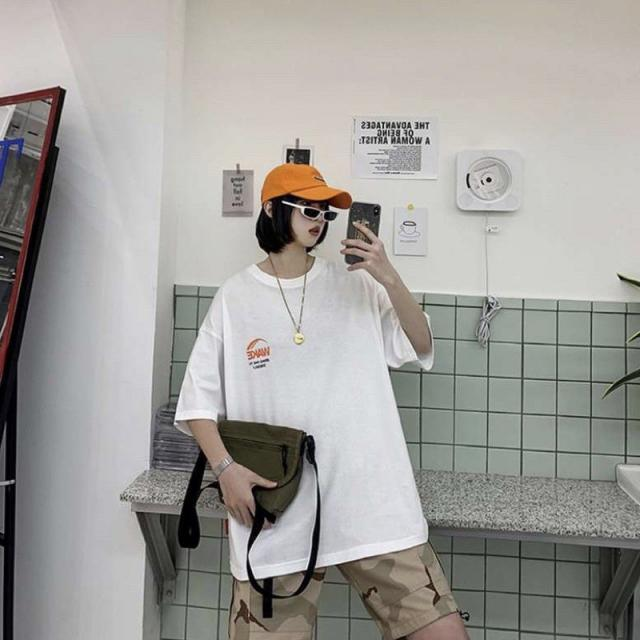Shorts: (222, 521, 468, 640)
short sleeve shirt: (170, 245, 441, 585)
